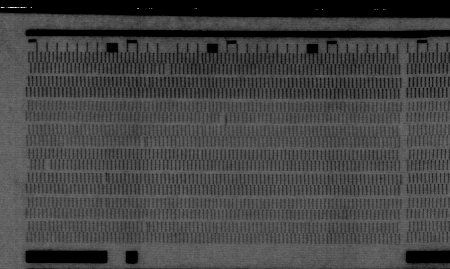Broken hole: (40, 158, 53, 171), (162, 63, 174, 77), (217, 113, 229, 126)
Oblique printing: (99, 172, 111, 186), (140, 220, 152, 232), (138, 136, 149, 148)
